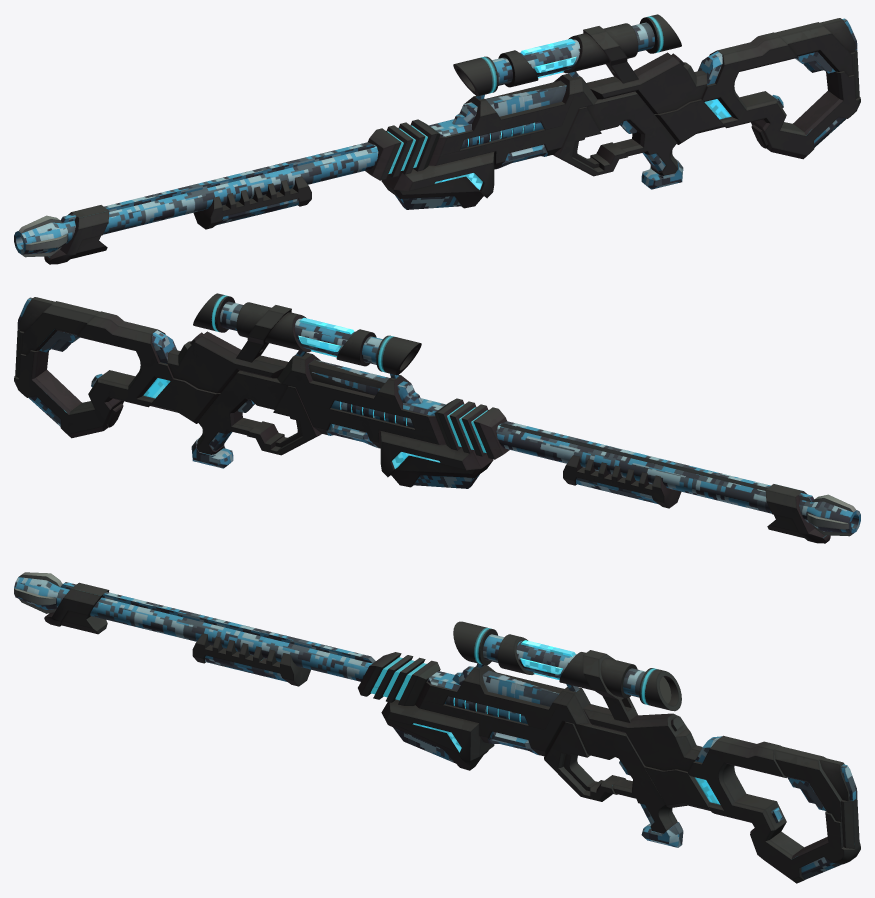
Rendered from sniper3.fbx.
3 views of the same model, one above another, from view 1: azimuth 30°, elevation 25°; view 2: azimuth 150°, elevation 25°; view 3: azimuth 330°, elevation 25° (orthographic).
Visible parts, largest first — view 1: Sniper3; view 2: Sniper3; view 3: Sniper3.
Boxes of the visible parts, x1,y1,x2,y2 form: Sniper3: (14, 14, 860, 264); Sniper3: (14, 293, 860, 543); Sniper3: (14, 572, 860, 883).
Size of the model in its own units: 949 by 191 by 44.64.
